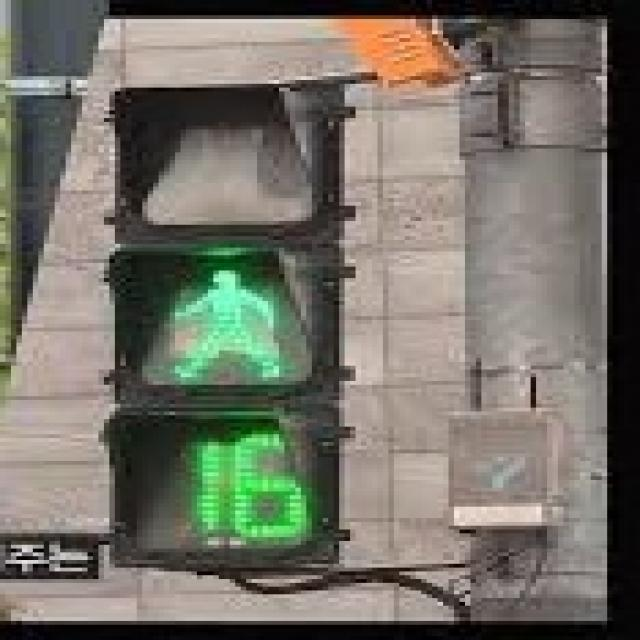Go: (99, 73, 381, 570), (95, 222, 378, 560), (80, 233, 398, 421)
